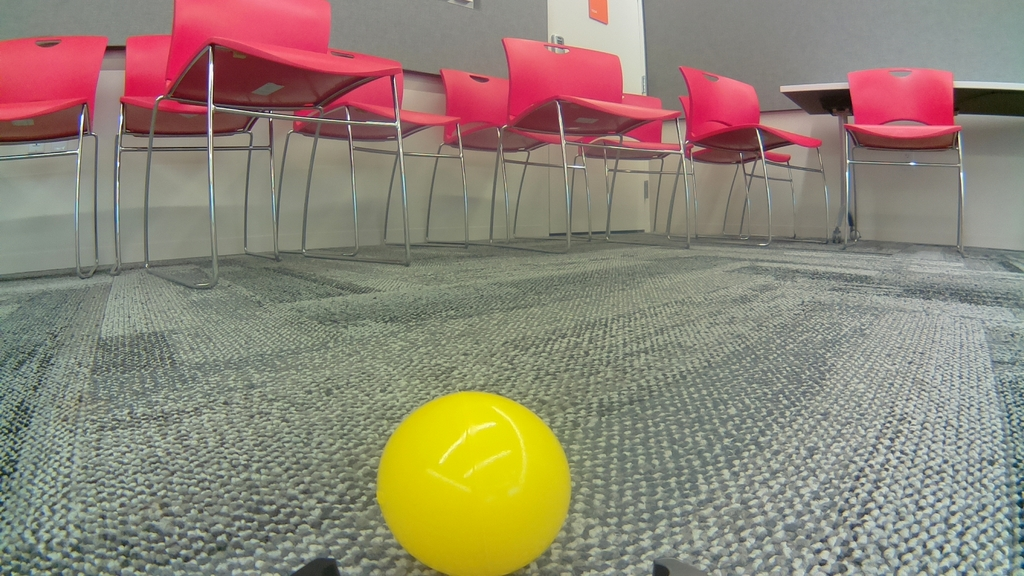ball: (379, 393, 569, 573)
